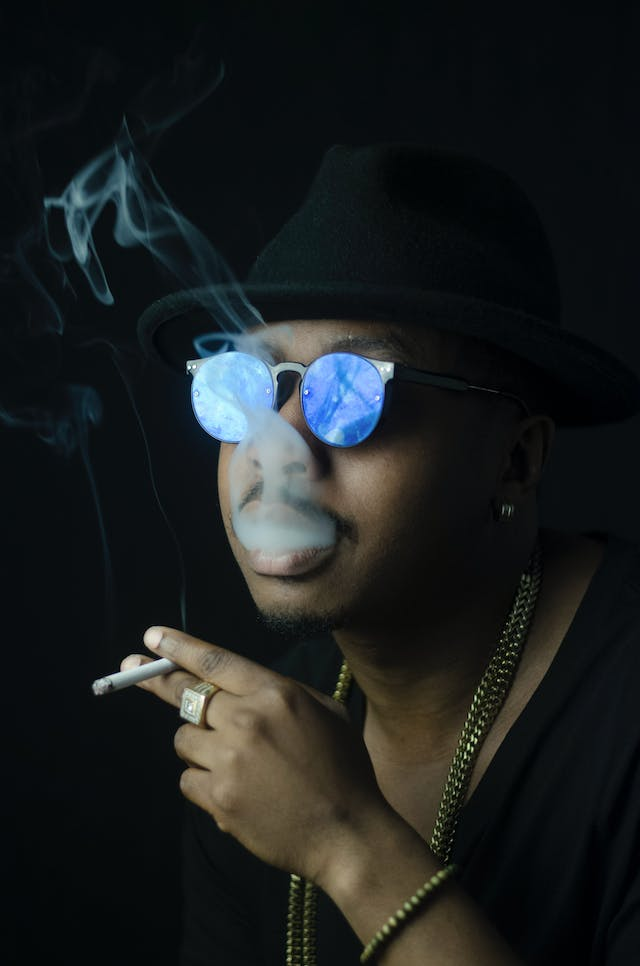Cigarette: (90, 658, 189, 695)
